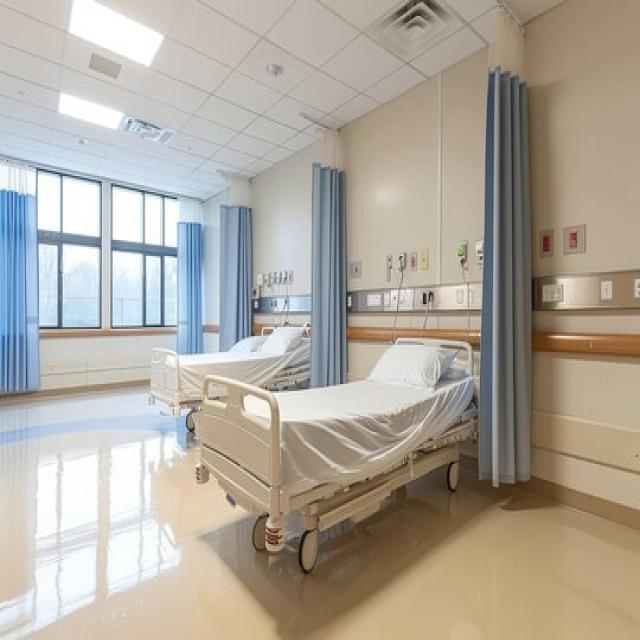bed: (194, 334, 478, 572), (147, 322, 310, 432)
